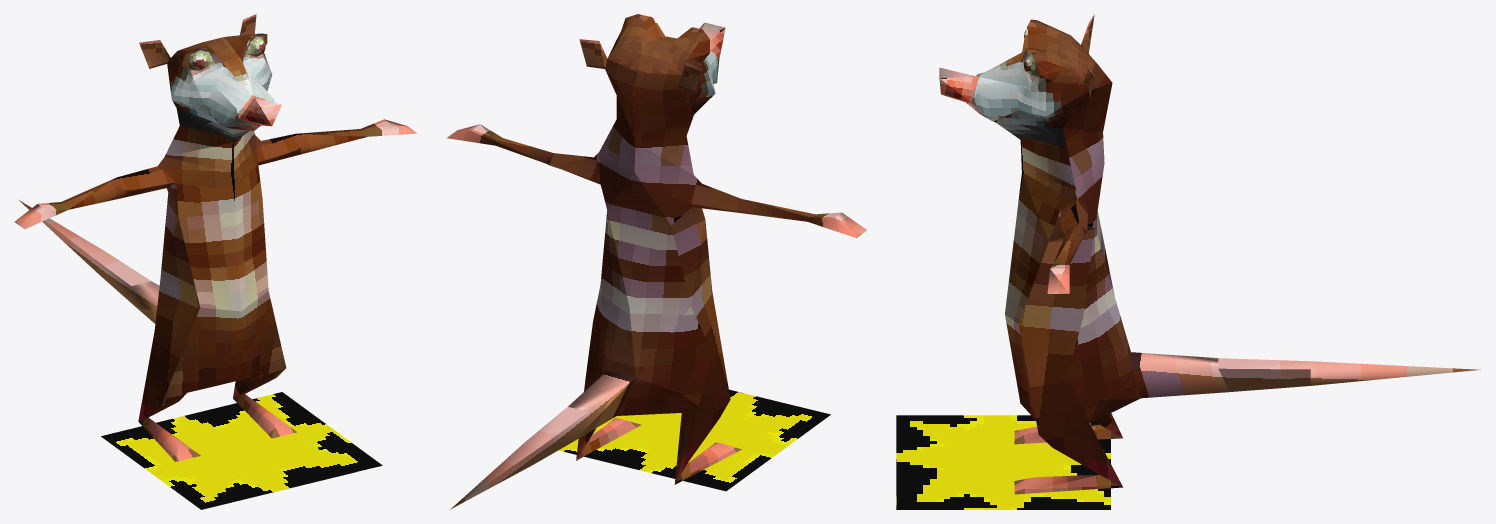
File: Crash.obj
The picture shows the model from 3 angles, left to right: view 1: azimuth 30°, elevation 25°; view 2: azimuth 150°, elevation 25°; view 3: azimuth 270°, elevation 25°; orthographic projection. The views are drawn at different scales.
Parts seen in each view (by area): view 1: polygon0, polygon1; view 2: polygon0, polygon1; view 3: polygon0, polygon1.
Boxes of the visible parts, x1,y1,x2,y2 form: polygon0: (14,14,417,461); polygon1: (101,392,382,509); polygon0: (446,14,867,509); polygon1: (558,389,830,491); polygon0: (939,14,1480,494); polygon1: (896,415,1110,509).
Size of the model in its own units: 1.57 by 1.53 by 1.89.
Materials: 2 (2 with a texture image).
